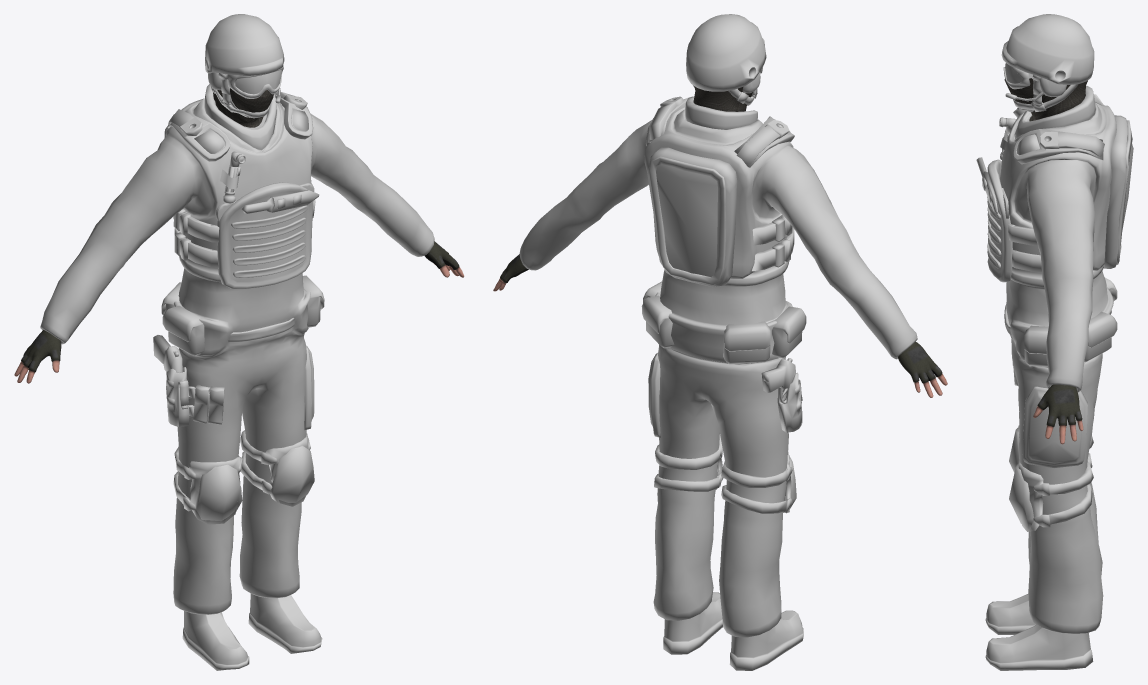
Rendered from SCP_Guard.gltf.
3 views of the same model, side by side, from view 1: azimuth 30°, elevation 25°; view 2: azimuth 150°, elevation 25°; view 3: azimuth 270°, elevation 25° (orthographic).
Visible parts, largest first — view 1: Body; view 2: Body; view 3: Body.
Boxes of the visible parts, bbox=[...] form: Body: bbox=[14, 14, 464, 670]; Body: bbox=[493, 14, 947, 670]; Body: bbox=[976, 14, 1133, 670].
Size of the model in its own units: 1.96 by 2.65 by 0.6001.
